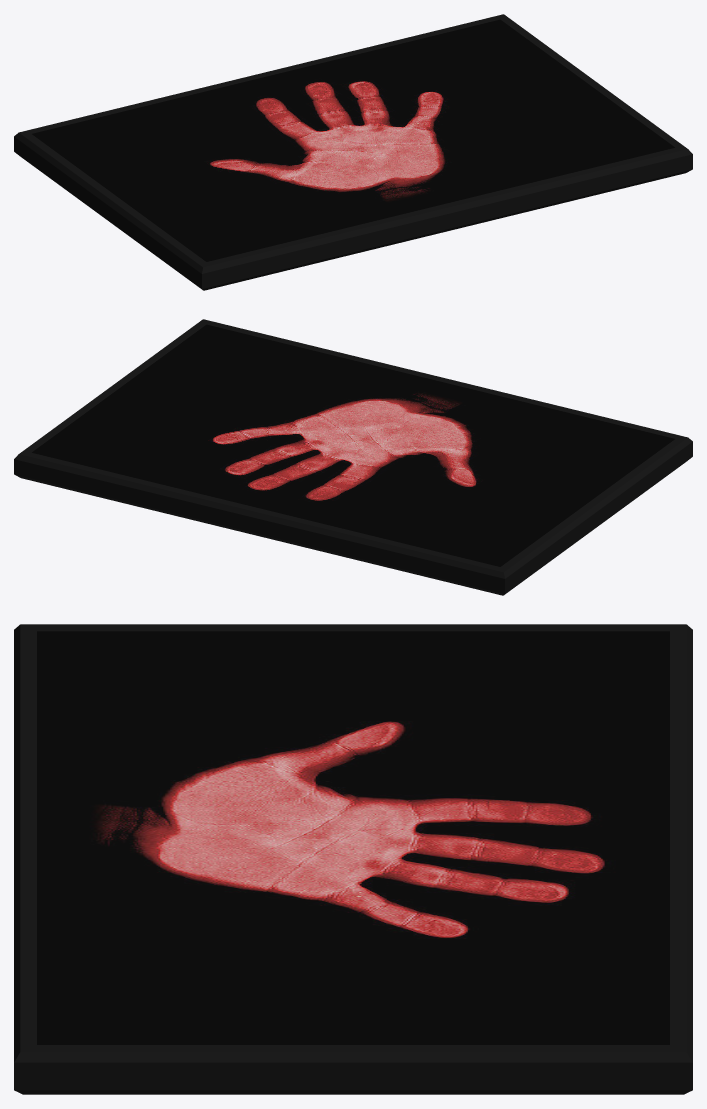
Rendered from tablet.FBX.
3 views of the same model, one above another, from view 1: azimuth 30°, elevation 25°; view 2: azimuth 150°, elevation 25°; view 3: azimuth 270°, elevation 25° (orthographic). The views are drawn at different scales.
Visible parts, largest first — view 1: Box002; view 2: Box002; view 3: Box002.
Part boxes in pixels (x1,y1,x2,y2): Box002: [14, 14, 692, 290]; Box002: [14, 319, 692, 595]; Box002: [14, 624, 692, 1094].
Bounding box in the file's own units: 44.37 × 2.09 × 29.41.
2 materials, 1 textured.
